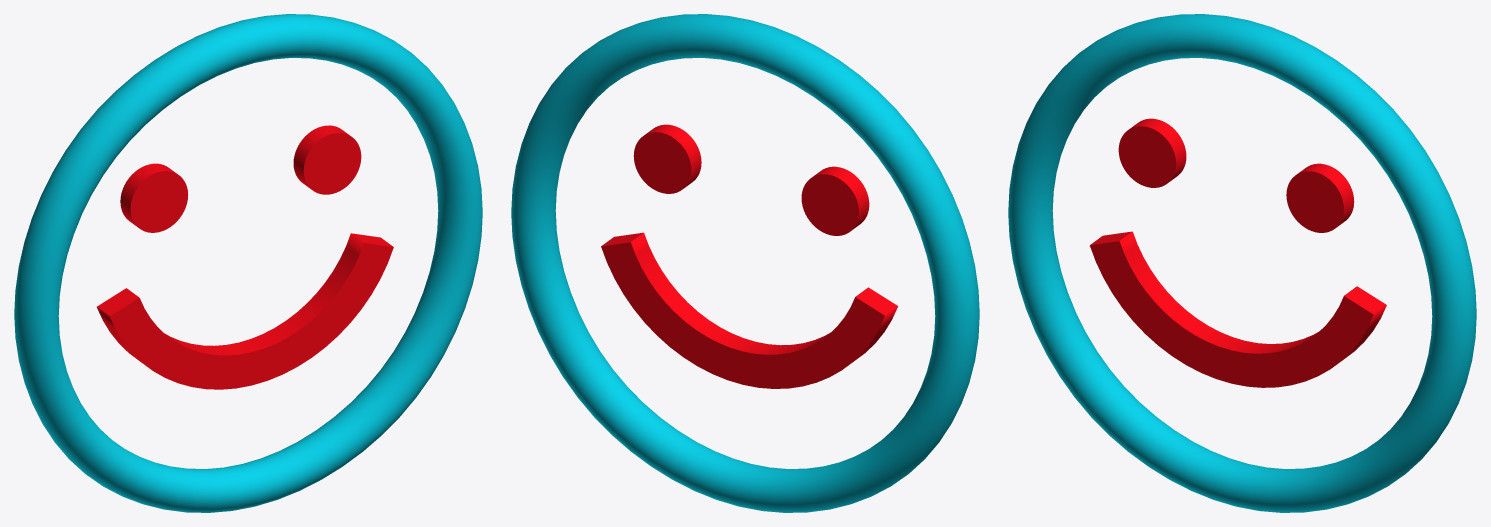
Rendered from smileMeTwo.glb.
The picture shows the model from 3 angles, left to right: view 1: azimuth 30°, elevation 25°; view 2: azimuth 150°, elevation 25°; view 3: azimuth 330°, elevation 25°; orthographic projection.
Visible parts, largest first — view 1: torus, Smile, eyeTwo, eyeOne; view 2: torus, Smile, eyeOne, eyeTwo; view 3: torus, Smile, eyeOne, eyeTwo.
Boxes of the visible parts, x1=… form: torus: x1=14, y1=14, x2=482, y2=512; Smile: x1=97, y1=233, x2=393, y2=389; eyeTwo: x1=293, y1=125, x2=361, y2=194; eyeOne: x1=120, y1=163, x2=187, y2=232; torus: x1=511, y1=14, x2=979, y2=512; Smile: x1=601, y1=232, x2=898, y2=388; eyeOne: x1=801, y1=166, x2=869, y2=235; eyeTwo: x1=633, y1=124, x2=701, y2=193; torus: x1=1008, y1=14, x2=1476, y2=512; Smile: x1=1090, y1=231, x2=1386, y2=387; eyeOne: x1=1118, y1=118, x2=1186, y2=187; eyeTwo: x1=1286, y1=163, x2=1354, y2=232.
Bounding box in the file's own units: 7.2 × 7.2 × 0.6496.
